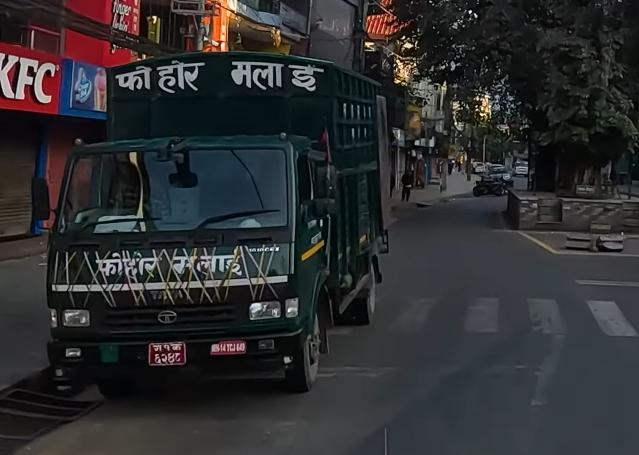mini_truck: (40, 35, 401, 395)
